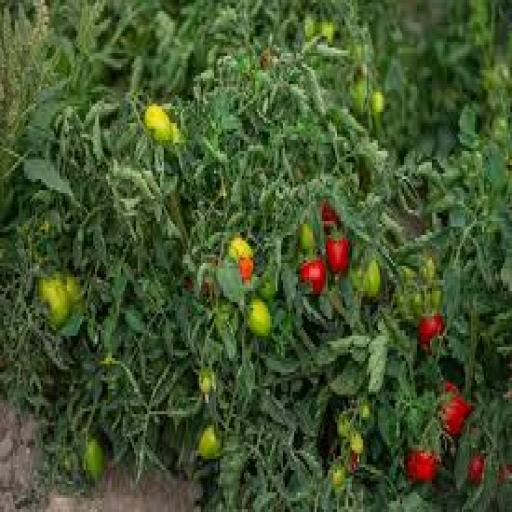tomato: (38, 277, 70, 330), (442, 384, 472, 436), (144, 104, 178, 142), (418, 314, 444, 352), (84, 437, 106, 481), (406, 451, 437, 481), (300, 258, 325, 293), (248, 300, 271, 338), (326, 238, 350, 274), (397, 291, 424, 321), (198, 426, 221, 461), (215, 303, 234, 338), (228, 236, 253, 262), (364, 261, 381, 299), (352, 76, 368, 114), (468, 454, 485, 484), (64, 275, 81, 304), (259, 275, 277, 302), (321, 202, 340, 226), (492, 115, 508, 142), (298, 224, 314, 251), (198, 370, 215, 394), (239, 258, 255, 282), (421, 258, 435, 285), (332, 465, 346, 492), (410, 291, 424, 318), (371, 90, 385, 117), (321, 20, 336, 44), (427, 289, 443, 310), (337, 415, 351, 439), (351, 431, 364, 456), (349, 269, 363, 290), (304, 17, 316, 41), (401, 266, 417, 282), (499, 465, 511, 484), (360, 403, 370, 422), (349, 454, 359, 472)
